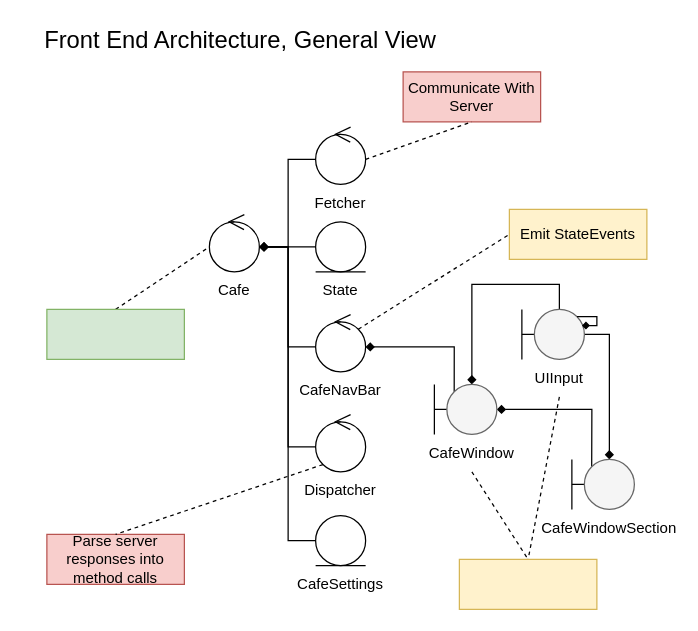
Image size: 698x631. Some labels were removed from this diagram. Each missing label, with the box of its shape:
Emit CafeEvents: (458, 558, 597, 609)
Listens for Events: (46, 308, 184, 359)
